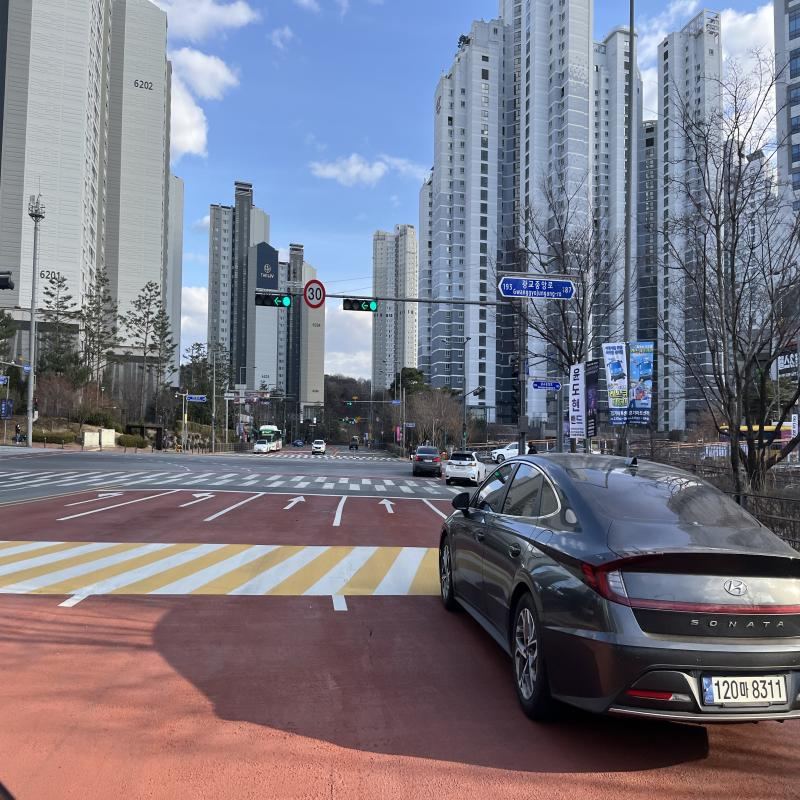green: (282, 296, 291, 306), (369, 302, 377, 312)
left: (272, 296, 282, 306), (361, 300, 369, 310)
